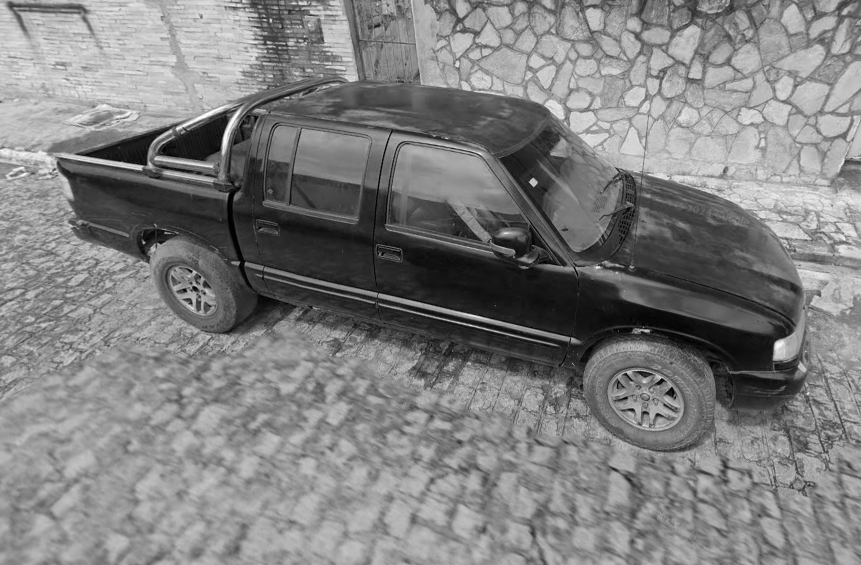car: (50, 68, 813, 457)
